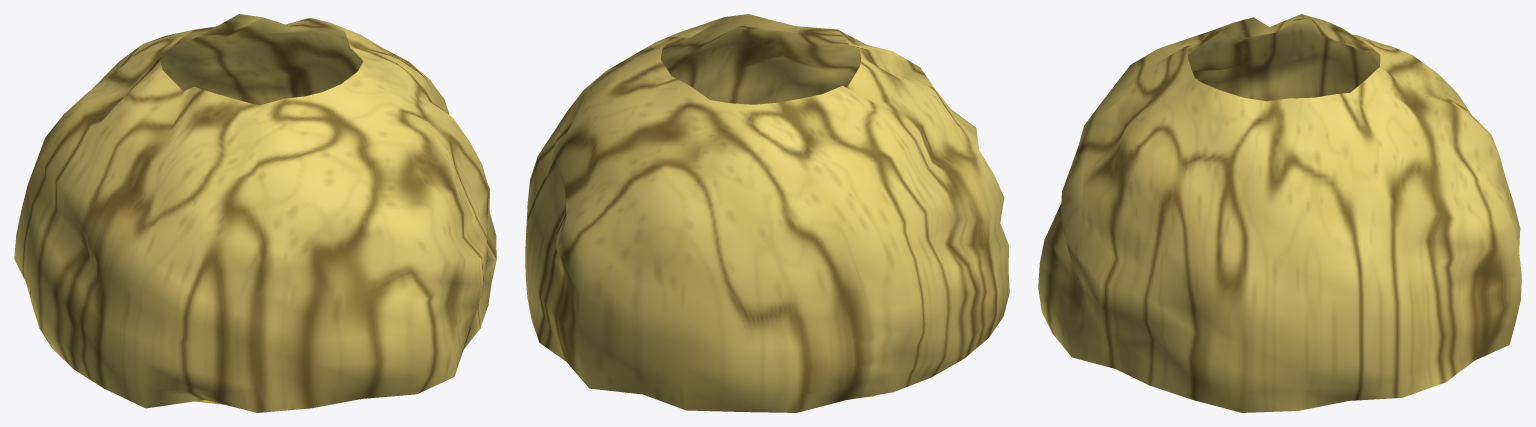
File: plant_shallows_coral_brain_a.glb
3 renders of one model, left to right at view 1: azimuth 30°, elevation 25°; view 2: azimuth 150°, elevation 25°; view 3: azimuth 270°, elevation 25°, orthographic.
Parts seen in each view (by area): view 1: plant_shallows_coral_brain_a; view 2: plant_shallows_coral_brain_a; view 3: plant_shallows_coral_brain_a.
Part boxes in pixels (bbox=[...]): plant_shallows_coral_brain_a: bbox=[14, 14, 496, 412]; plant_shallows_coral_brain_a: bbox=[525, 14, 1009, 412]; plant_shallows_coral_brain_a: bbox=[1038, 14, 1521, 412].
Size of the model in its own units: 0.6128 by 0.3703 by 0.6252.
Materials: 1 (1 with a texture image).
